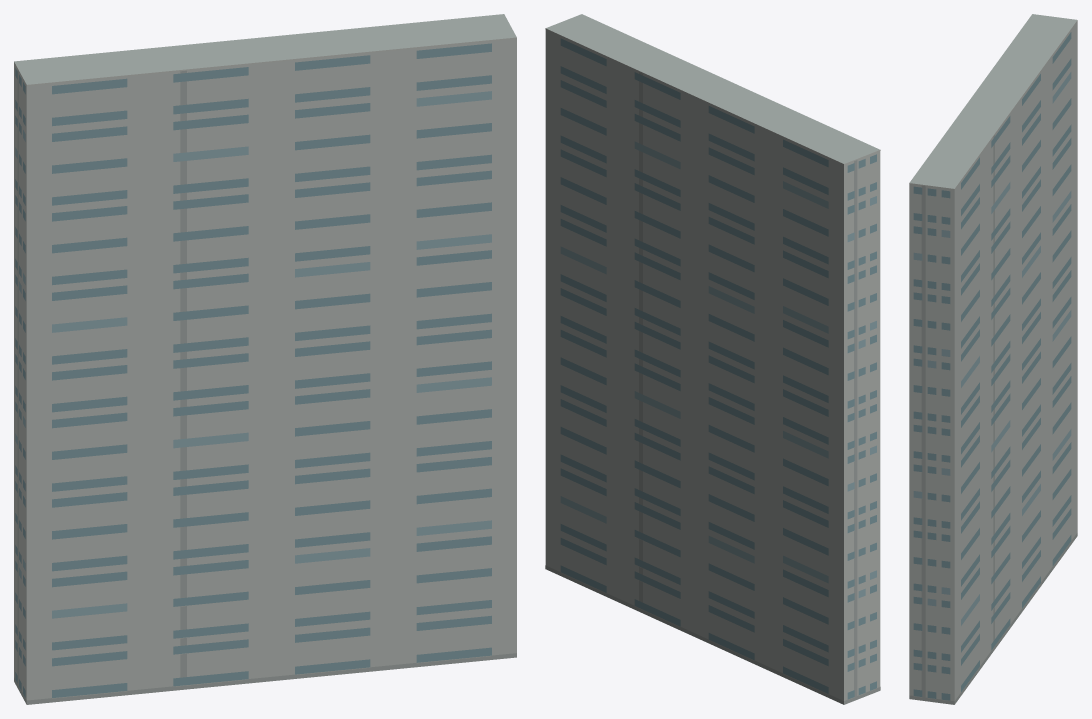
Rendered from residential-aad96496-22a6-4d87-aaff-1073c3f3011c.glb.
3 renders of one model, left to right at view 1: azimuth 30°, elevation 25°; view 2: azimuth 150°, elevation 25°; view 3: azimuth 270°, elevation 25°, orthographic. The views are drawn at different scales.
Parts seen in each view (by area): view 1: residential-aad96496-22a6-4d87-aaff-1073c3f3011c.tmp; view 2: residential-aad96496-22a6-4d87-aaff-1073c3f3011c.tmp; view 3: residential-aad96496-22a6-4d87-aaff-1073c3f3011c.tmp.
Part boxes in pixels (bbox=[...]): residential-aad96496-22a6-4d87-aaff-1073c3f3011c.tmp: bbox=[14, 14, 516, 704]; residential-aad96496-22a6-4d87-aaff-1073c3f3011c.tmp: bbox=[545, 14, 880, 704]; residential-aad96496-22a6-4d87-aaff-1073c3f3011c.tmp: bbox=[909, 14, 1077, 704].
Bounding box in the file's own units: 87.25 × 120 × 35.51.
